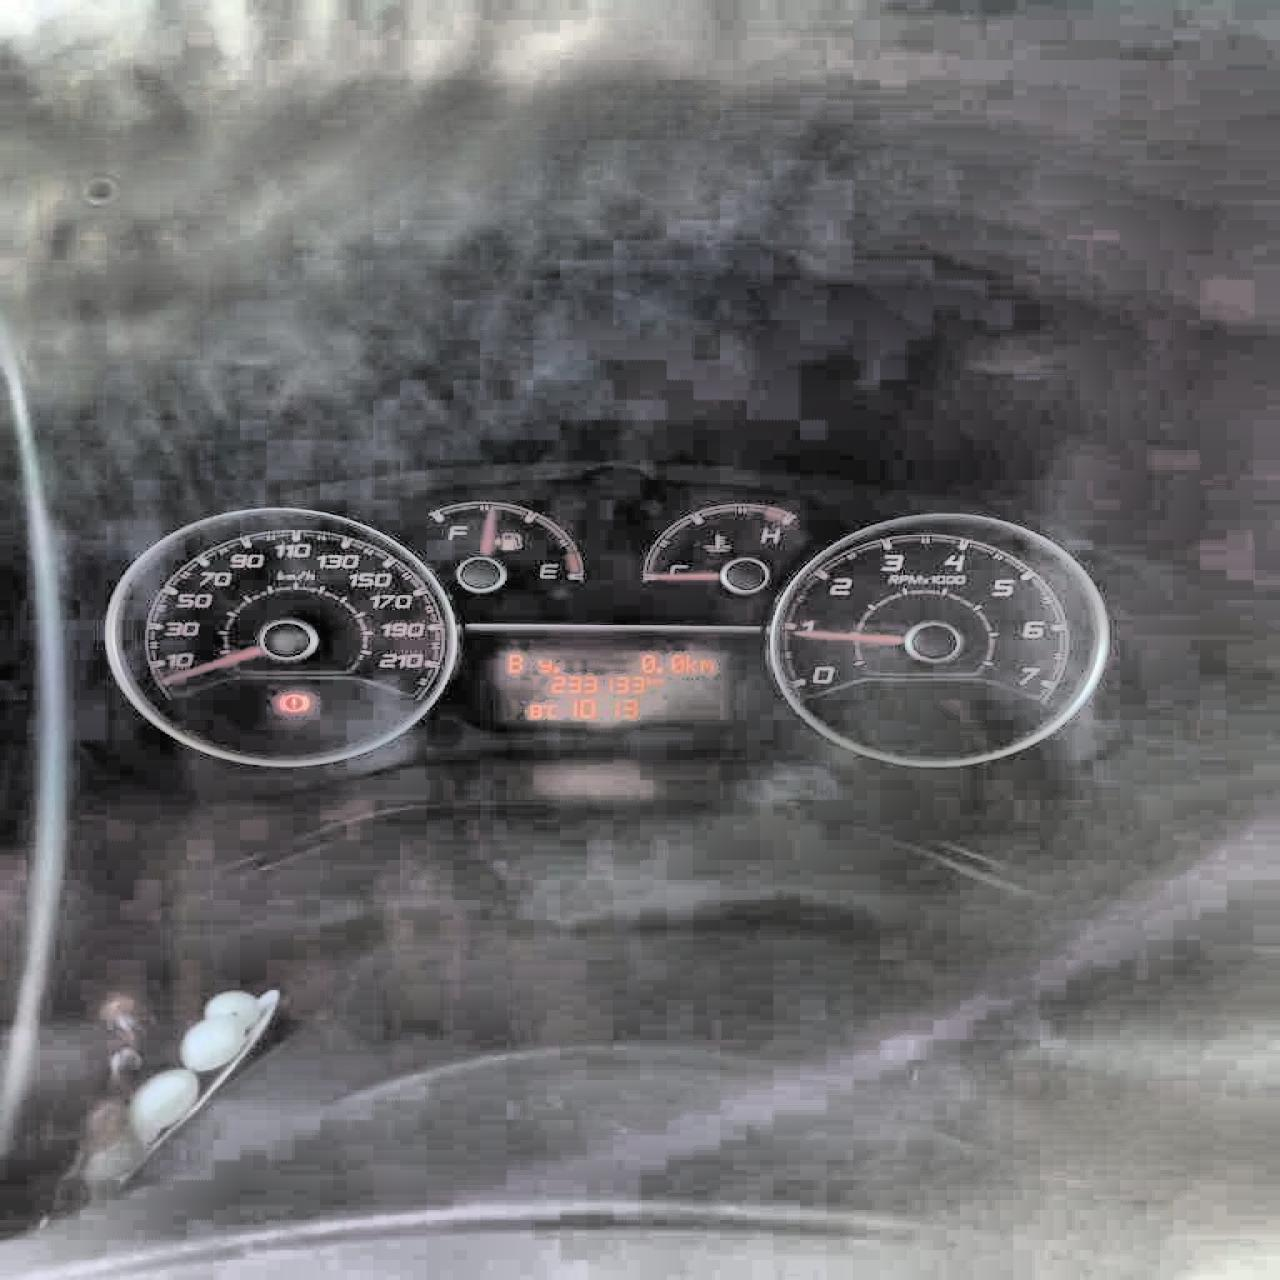-: (550, 663, 558, 673), (653, 666, 662, 673)
0: (578, 697, 597, 719), (667, 653, 683, 674), (639, 653, 655, 673)
1: (570, 697, 578, 719), (604, 676, 612, 694), (612, 696, 618, 719)
2: (549, 675, 565, 694)
3: (620, 697, 636, 719), (613, 675, 628, 694), (581, 674, 597, 693), (565, 674, 580, 693), (629, 675, 644, 694)
8: (526, 702, 542, 717)
X: (505, 653, 523, 673), (533, 658, 550, 673), (683, 653, 695, 673), (696, 659, 713, 672), (545, 701, 557, 717), (651, 676, 662, 685), (644, 674, 649, 686)
odometer: (477, 641, 742, 735)
